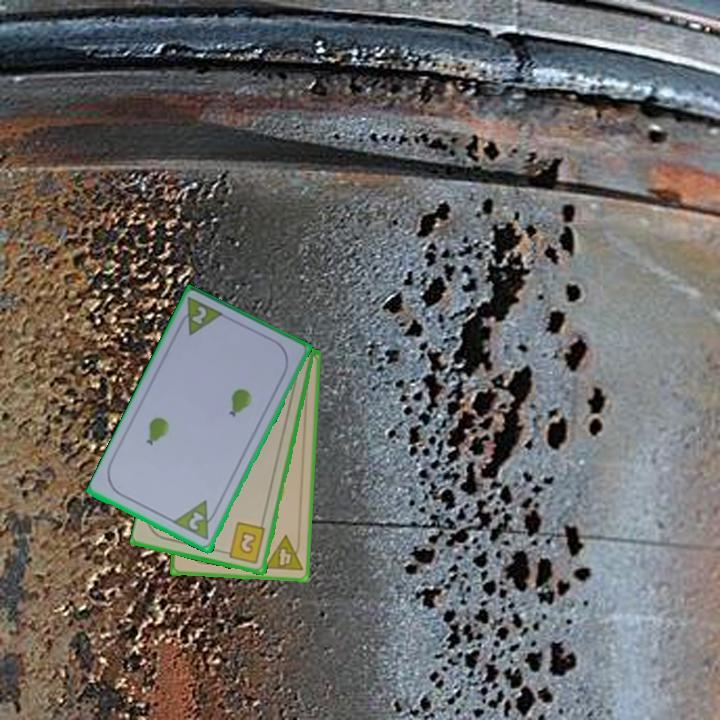2b: (220, 519, 268, 567)
2p: (173, 294, 227, 340), (185, 508, 207, 534)
4p: (261, 532, 305, 574)
